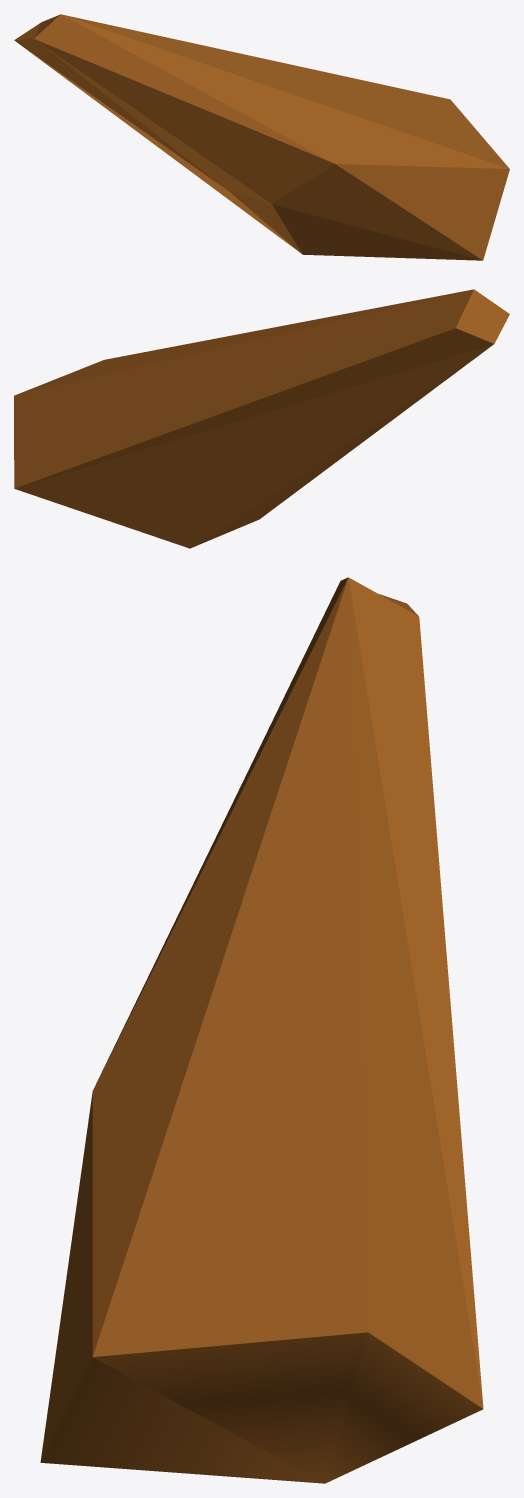
Rendered from Rock_Large_Dirt_02.fbx.
3 views of the same model, one above another, from view 1: azimuth 30°, elevation 25°; view 2: azimuth 150°, elevation 25°; view 3: azimuth 270°, elevation 25° (orthographic). The views are drawn at different scales.
Visible parts, largest first — view 1: Rock_Large_Dirt_02; view 2: Rock_Large_Dirt_02; view 3: Rock_Large_Dirt_02.
Part boxes in pixels (left/top/right/bottom): Rock_Large_Dirt_02: left=14, top=14, right=509, bottom=260; Rock_Large_Dirt_02: left=14, top=289, right=509, bottom=548; Rock_Large_Dirt_02: left=40, top=577, right=483, bottom=1483.
Size of the model in its own units: 3917 by 2405 by 1761.
